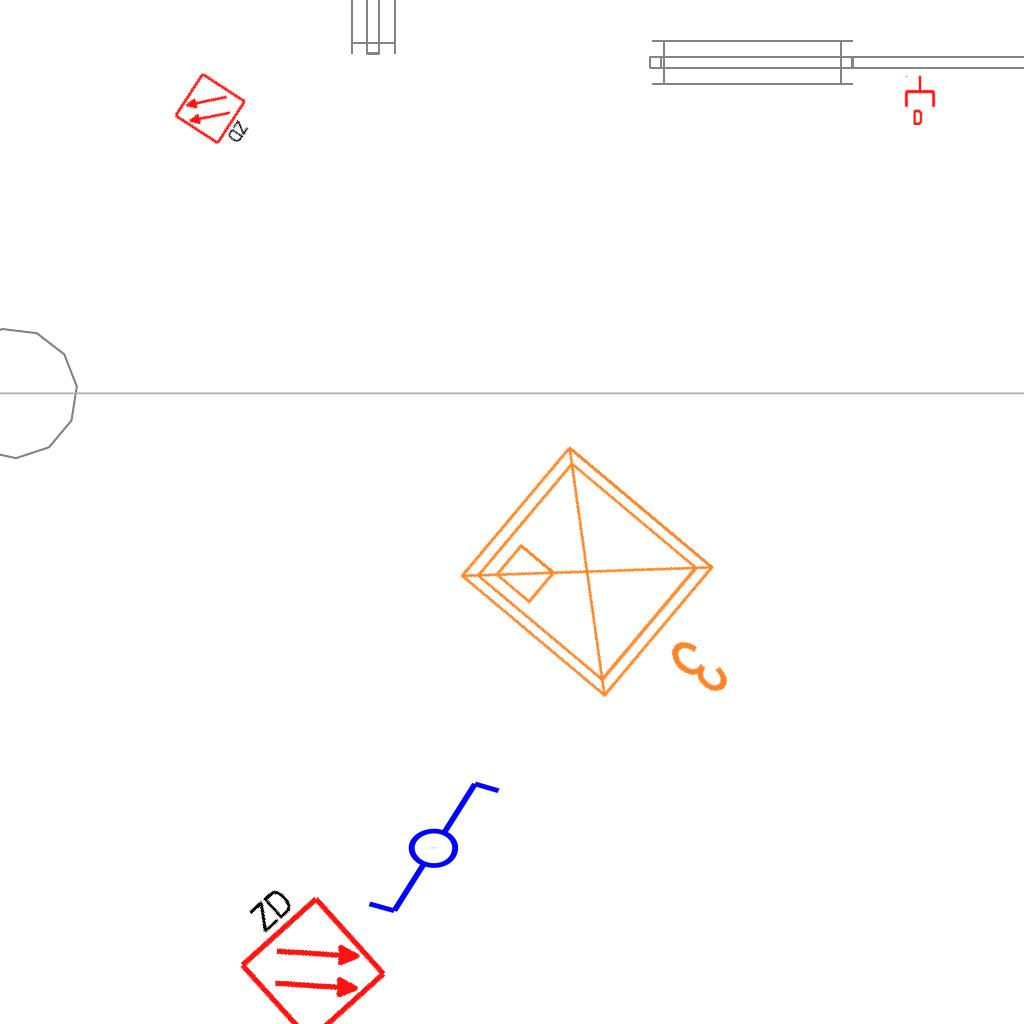Datenanschluss_einfach: (903, 75, 937, 125)
Einbaudownlights_LED_Konferenzraeume: (439, 418, 803, 772)
Wechselschalter: (347, 774, 504, 918)
ZD_Melder_in_Zwischendecke_mit_Revisionsoeffnung_mind_40_x_40_cm: (206, 862, 392, 1024), (171, 68, 266, 158)
